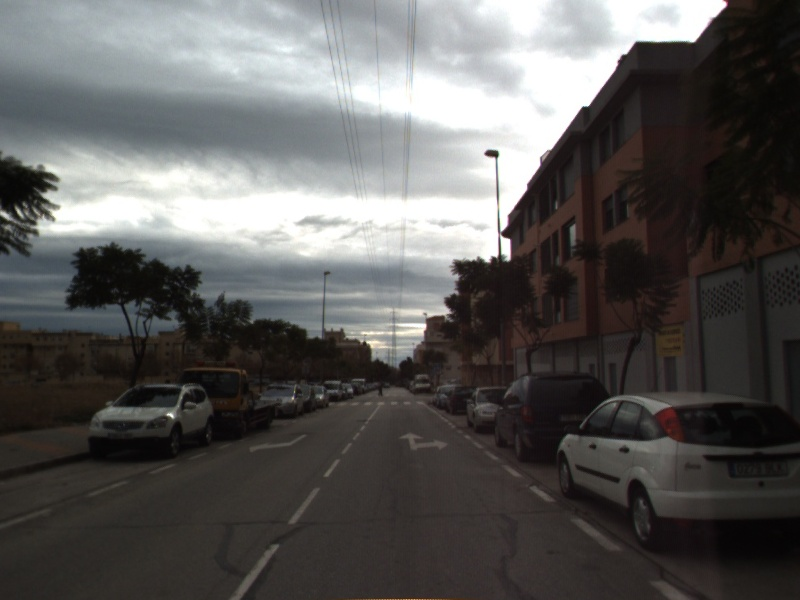STRAIGHT_RIGHT: (396, 430, 450, 453)
